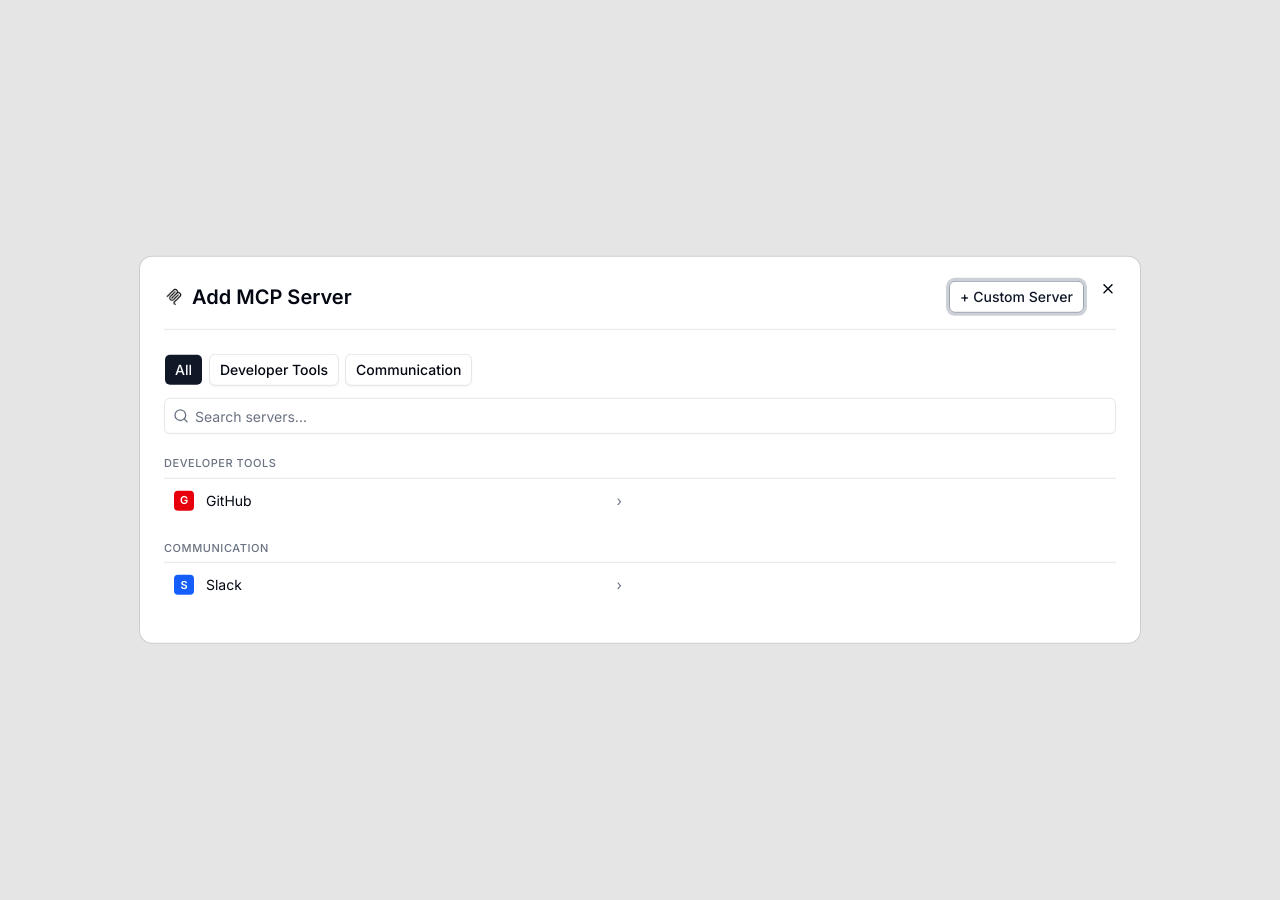
Test case: MCPDiscovery › filters the list by the search term
The image size is (1280, 900).
Expected: the text "GitHub" is shown, x1=206 y1=492 x2=252 y2=508
In the field with placeholder "Search servers...": [652, 416] box x1=189 y1=398 x2=1115 y2=434, type "chat"
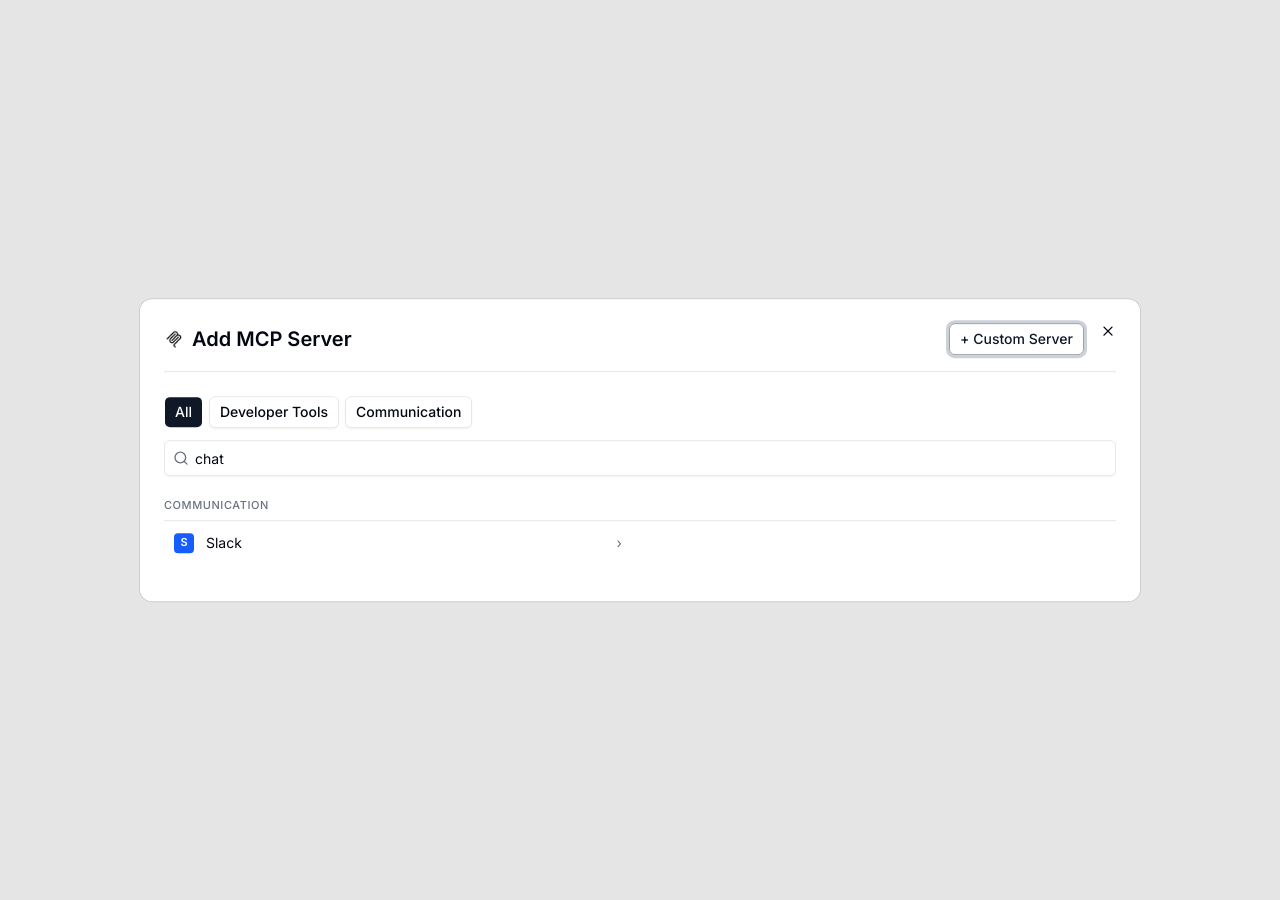
Expected: the text "Slack" is shown, x1=206 y1=534 x2=242 y2=551
Expected: the text "GitHub" is gone
